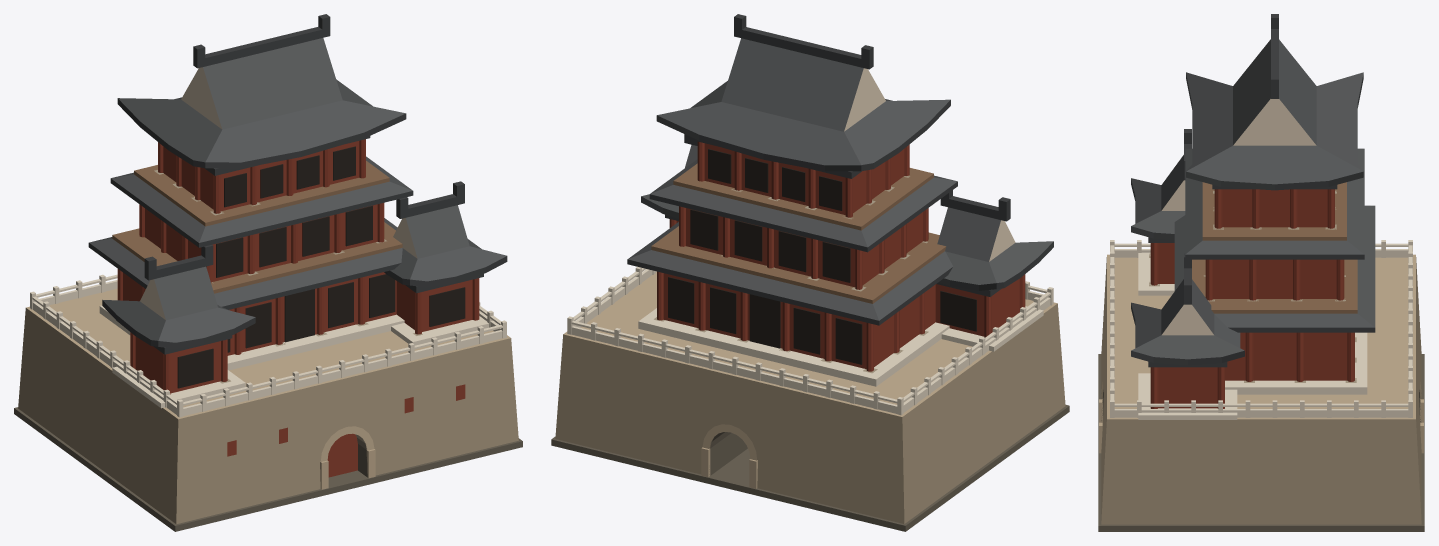
File: X01_far.glb
3 views of the same model, side by side, from view 1: azimuth 30°, elevation 25°; view 2: azimuth 150°, elevation 25°; view 3: azimuth 270°, elevation 25° (orthographic).
Parts seen in each view (by area): view 1: X01_far; view 2: X01_far; view 3: X01_far.
Boxes of the visible parts, x1,y1,x2,y2 form: X01_far: [14, 14, 522, 531]; X01_far: [551, 14, 1069, 531]; X01_far: [1098, 14, 1424, 531].
Bounding box in the file's own units: 30.51 × 32.92 × 24.4.
